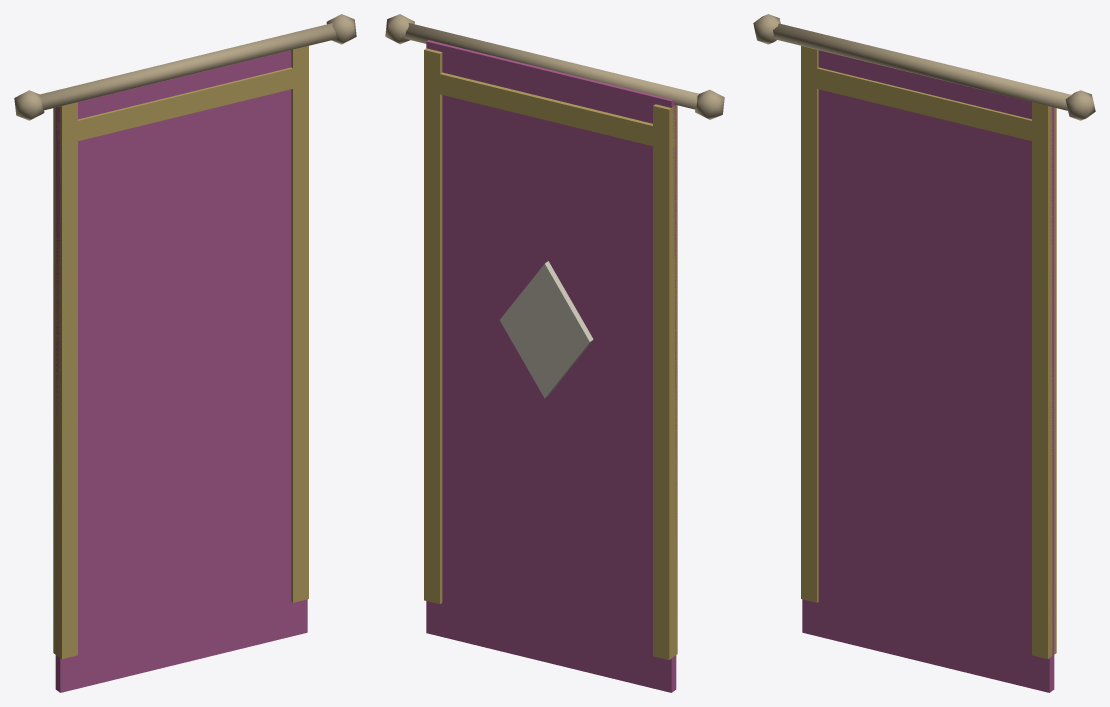
Rendered from pinky_banner_v0.glb.
The picture shows the model from 3 angles, left to right: view 1: azimuth 30°, elevation 25°; view 2: azimuth 150°, elevation 25°; view 3: azimuth 330°, elevation 25°; orthographic projection.
Parts seen in each view (by area): view 1: pinky_banner_v0; view 2: pinky_banner_v0; view 3: pinky_banner_v0.
Boxes of the visible parts, x1,y1,x2,y2 form: pinky_banner_v0: (14,14,356,692); pinky_banner_v0: (385,14,724,692); pinky_banner_v0: (753,14,1095,692).
Bounding box in the file's own units: 1.04 × 1.8 × 0.0933.
